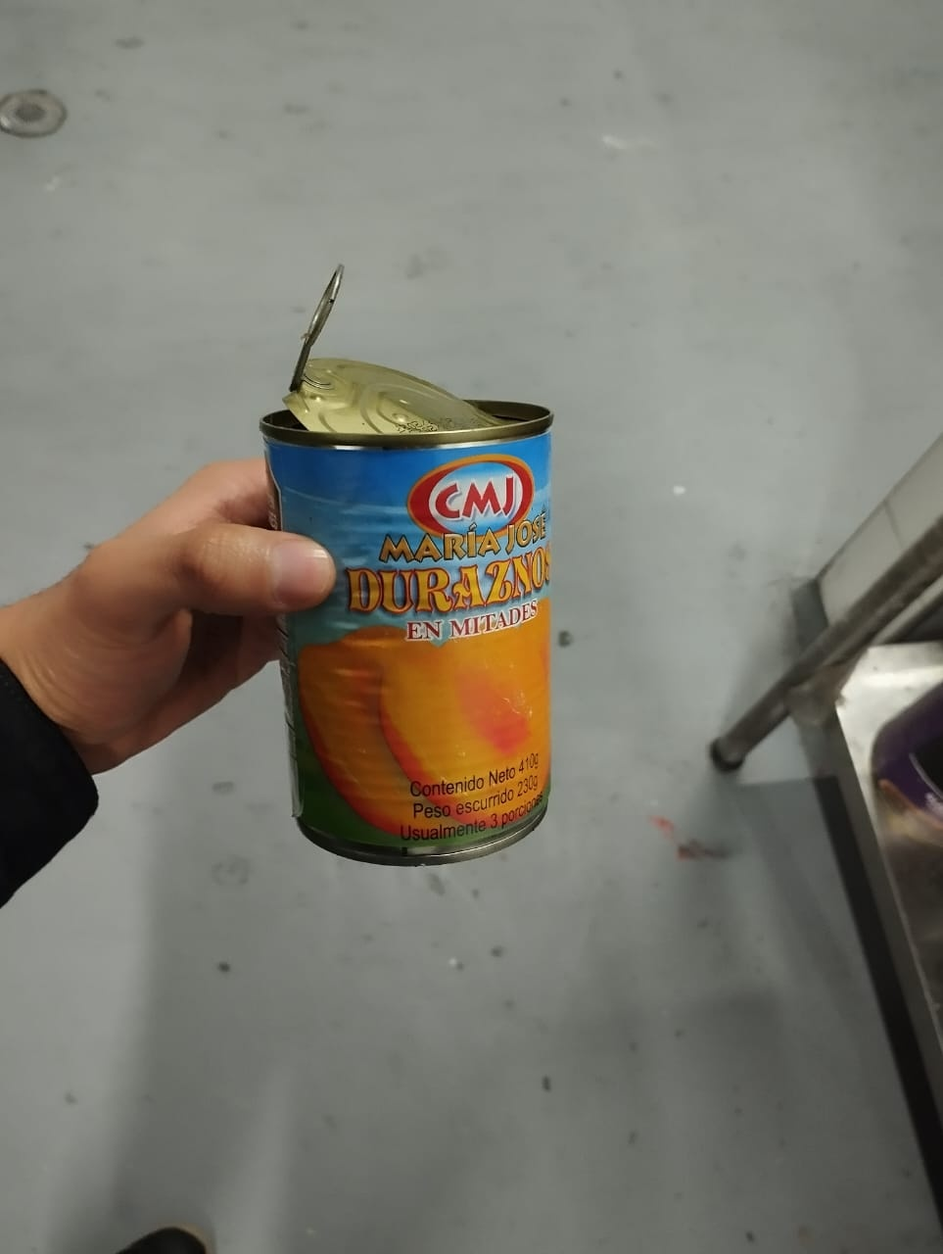Metal: (260, 268, 552, 869)
